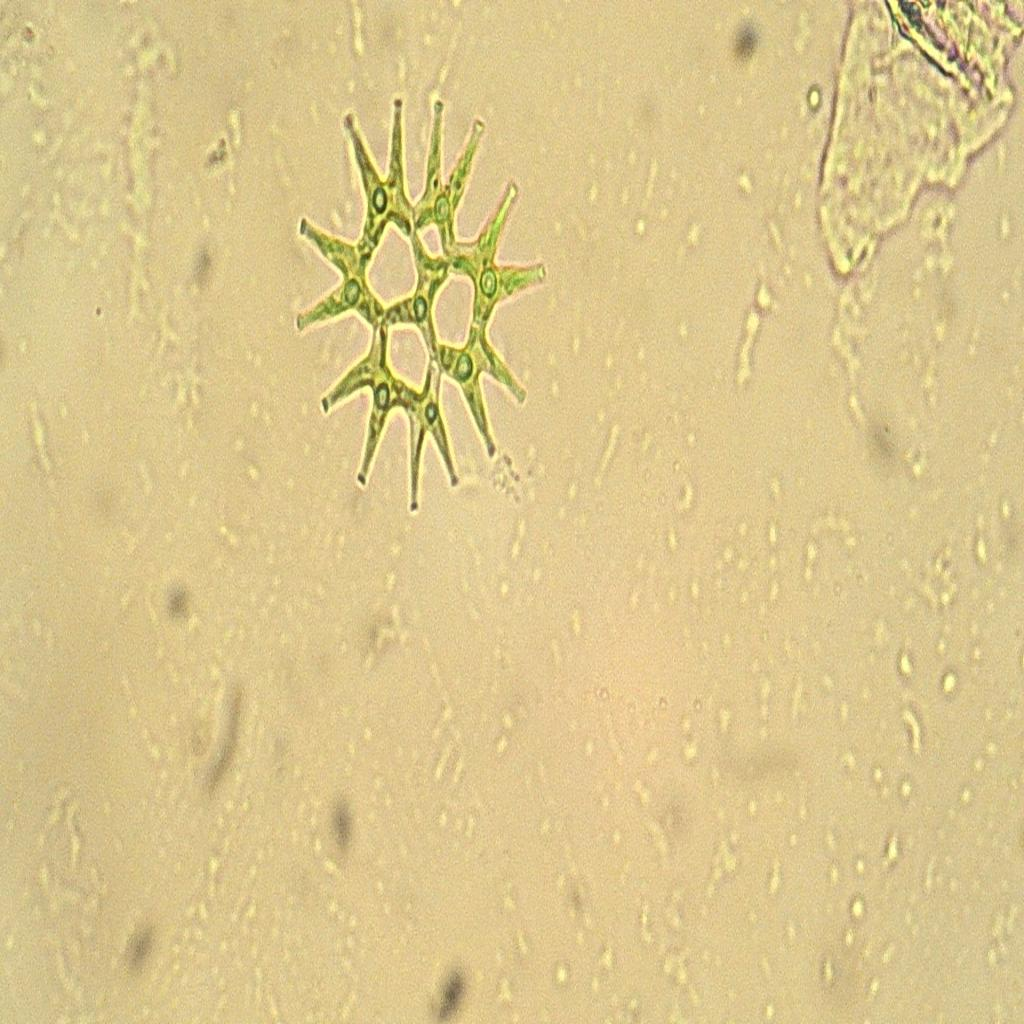Pediastrum_CTH: (285, 82, 555, 531)
